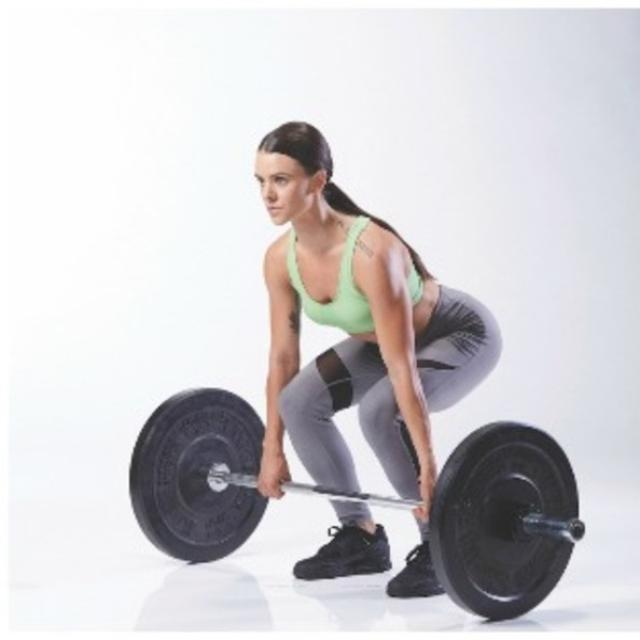deadlift: (108, 112, 600, 629)
